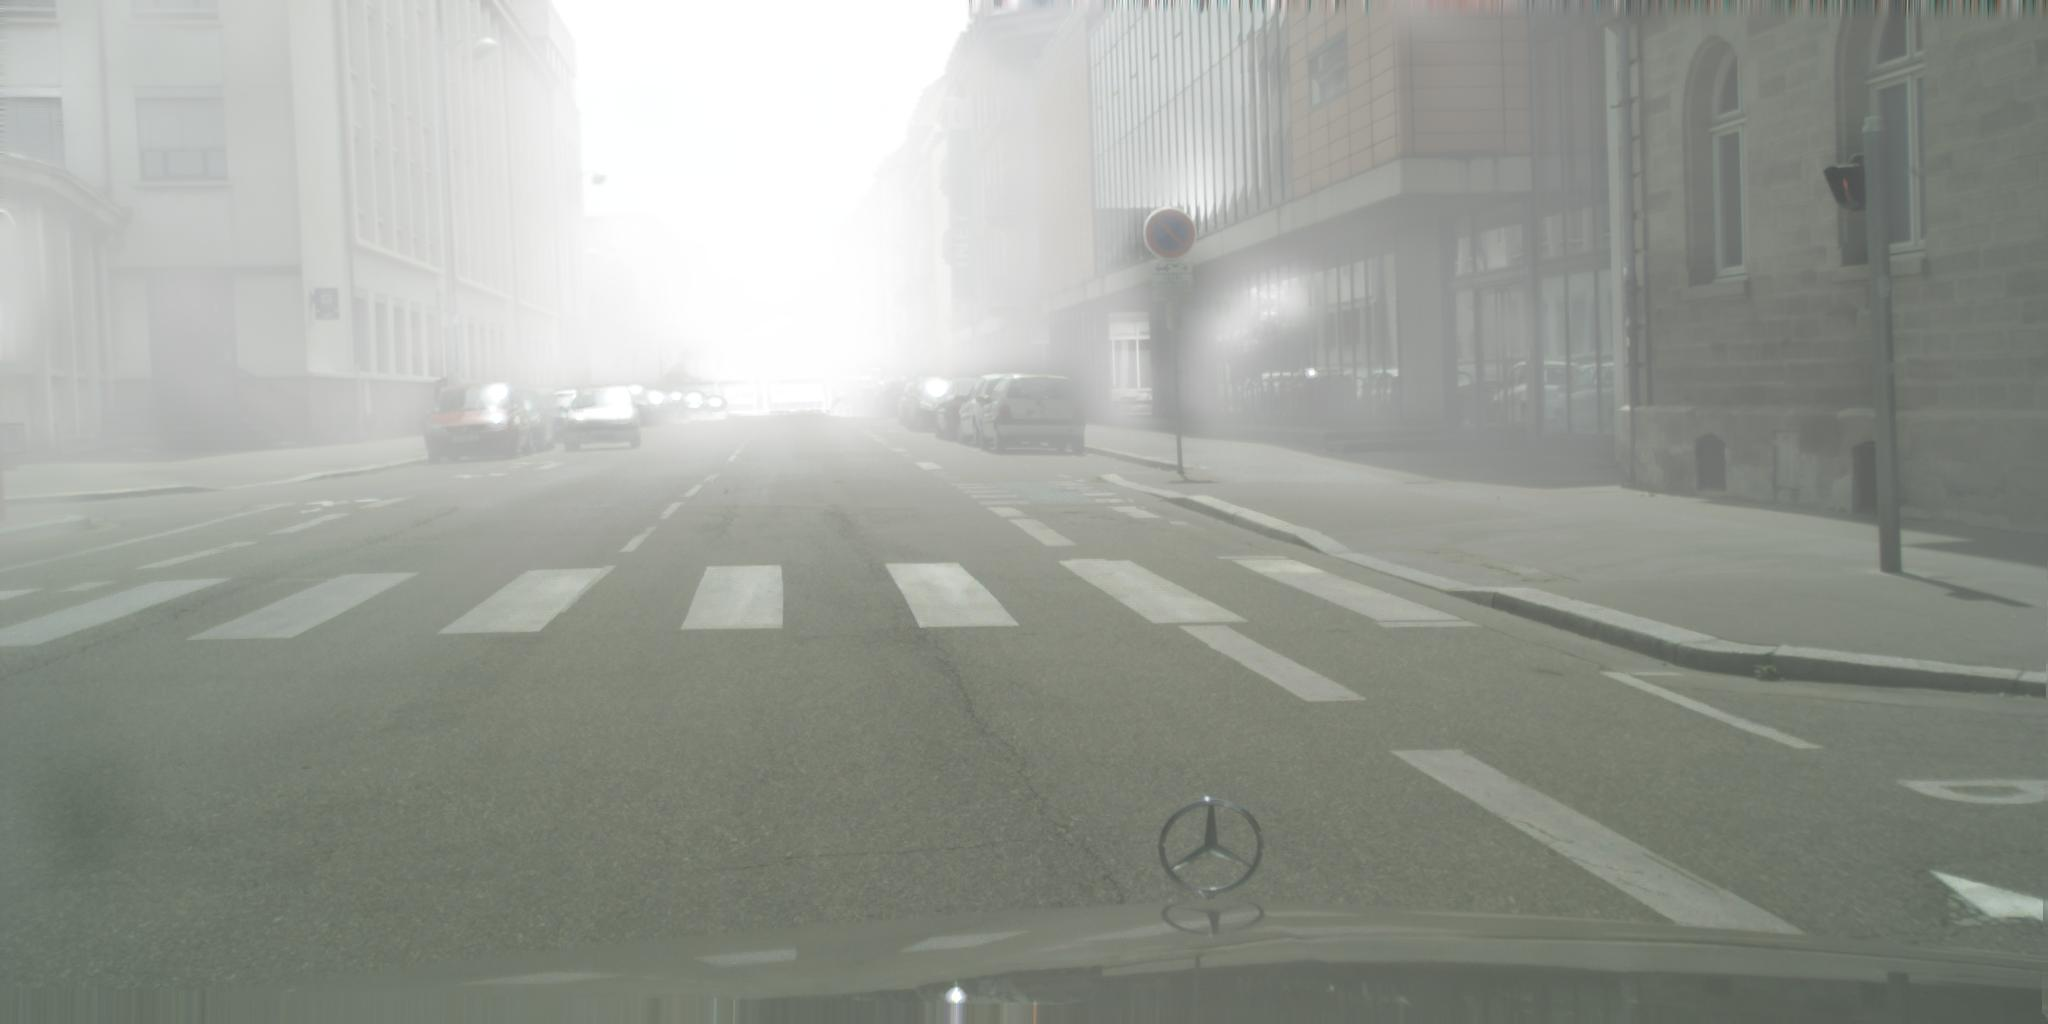car: (424, 381, 536, 466), (977, 372, 1087, 457), (957, 371, 1036, 448), (563, 388, 643, 453), (490, 389, 558, 453), (935, 376, 993, 441), (541, 387, 602, 443), (905, 376, 964, 432), (880, 375, 923, 419), (869, 384, 903, 419), (899, 381, 923, 427), (849, 384, 880, 418), (837, 394, 862, 417), (829, 396, 852, 415)
train: (647, 377, 903, 415)
